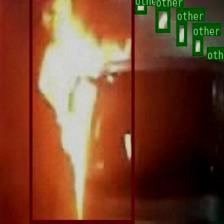fire: (28, 0, 134, 223)
